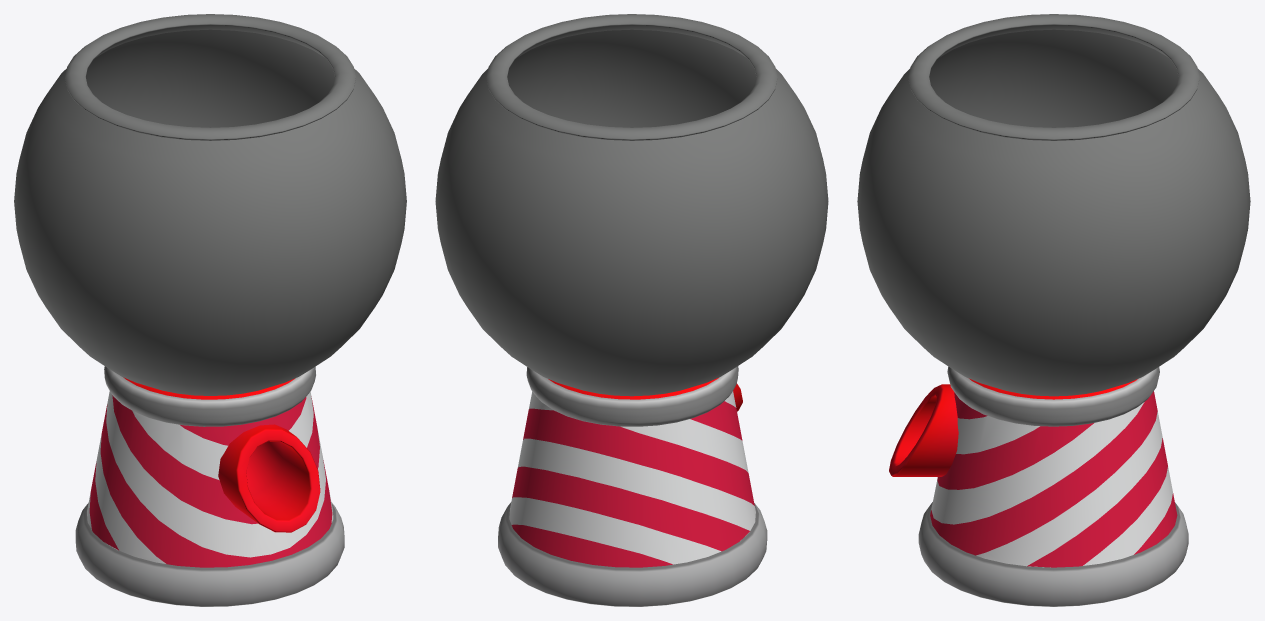
The model's file is candy_vending_machine_001.glb.
3 views of the same model, side by side, from view 1: azimuth 30°, elevation 25°; view 2: azimuth 150°, elevation 25°; view 3: azimuth 270°, elevation 25° (orthographic).
Visible parts, largest first — view 1: candy_vending_machine_001; view 2: candy_vending_machine_001; view 3: candy_vending_machine_001.
Boxes of the visible parts, x1,y1,x2,y2 form: candy_vending_machine_001: (14,14,406,606); candy_vending_machine_001: (435,14,828,606); candy_vending_machine_001: (857,14,1250,606).
Size of the model in its own units: 18.47 by 24.84 by 18.47.
Materials: 3 (3 with a texture image).
